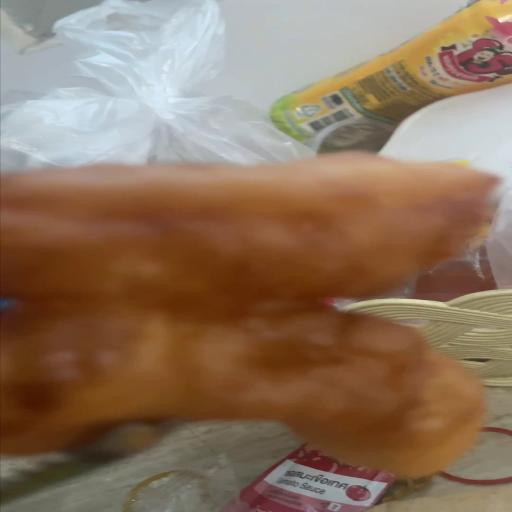street_burnt_good: (0, 153, 499, 478)
